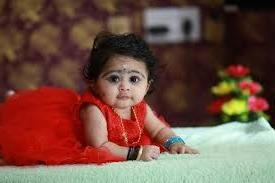Human: (0, 45, 200, 163)
